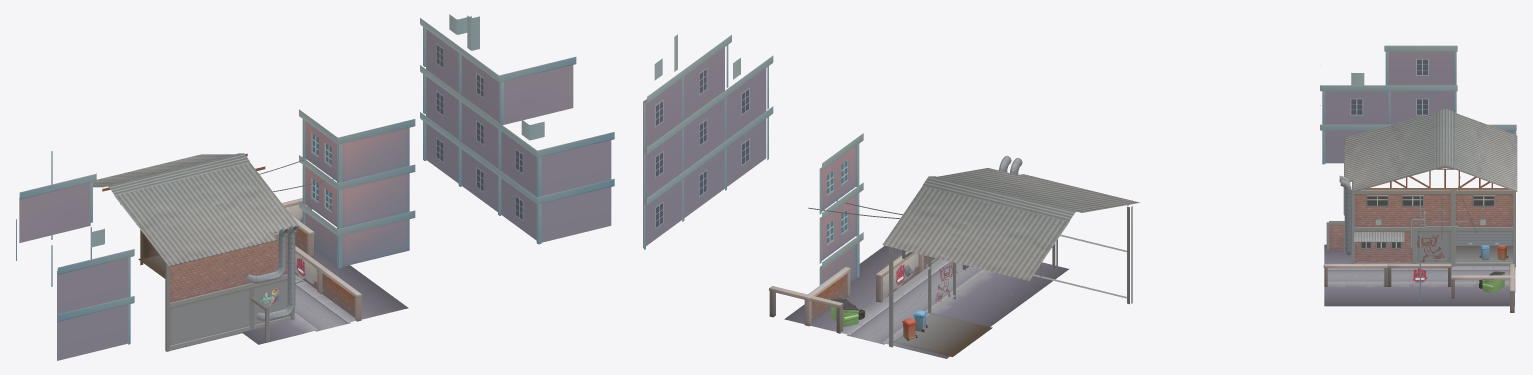
Rendered from IndustrialWarehouseTutorialUp2.prefab.glb.
3 views of the same model, side by side, from view 1: azimuth 30°, elevation 25°; view 2: azimuth 150°, elevation 25°; view 3: azimuth 270°, elevation 25° (orthographic). The views are drawn at different scales.
Parts seen in each view (by area): view 1: FarBackBuilding03, Warehouse03, BackgroundBuilding01, IndustrialWarehouseTutorialUp2, BrickWall, Road02, PlasteredWall02, BrickWall (3); view 2: Warehouse03, FarBackBuilding03, BackgroundBuilding01, Road02, IndustrialWarehouseTutorialUp2, Road02 (1), BrickWall (3), PlasteredWall02, PlasteredWall02 (1); view 3: Warehouse03, FarBackBuilding03, IndustrialWarehouseTutorialUp2, Road02, Road02 (1), PlasteredWall02, BrickWall, BrickWall (3), DumpsterGreen, PlasteredWall02 (1), Graffiti07, BackgroundBuilding01 (+1 smaller).
Boxes of the visible parts, x1=… form: FarBackBuilding03: x1=16, y1=14, x2=614, y2=360; Warehouse03: x1=93, y1=153, x2=303, y2=351; BackgroundBuilding01: x1=299, y1=109, x2=415, y2=268; IndustrialWarehouseTutorialUp2: x1=242, y1=280, x2=408, y2=344; BrickWall: x1=319, y1=266, x2=362, y2=321; Road02: x1=295, y1=255, x2=370, y2=299; PlasteredWall02: x1=295, y1=246, x2=323, y2=292; BrickWall (3): x1=291, y1=215, x2=314, y2=257; Warehouse03: x1=882, y1=155, x2=1139, y2=356; FarBackBuilding03: x1=643, y1=34, x2=773, y2=249; BackgroundBuilding01: x1=819, y1=133, x2=863, y2=285; Road02: x1=850, y1=259, x2=1027, y2=326; IndustrialWarehouseTutorialUp2: x1=866, y1=245, x2=1068, y2=298; Road02 (1): x1=784, y1=295, x2=949, y2=358; BrickWall (3): x1=804, y1=267, x2=850, y2=326; PlasteredWall02: x1=875, y1=251, x2=921, y2=302; PlasteredWall02 (1): x1=769, y1=286, x2=843, y2=333; Warehouse03: x1=1326, y1=108, x2=1517, y2=267; FarBackBuilding03: x1=1320, y1=45, x2=1516, y2=164; IndustrialWarehouseTutorialUp2: x1=1324, y1=244, x2=1387, y2=306; Road02: x1=1387, y1=268, x2=1451, y2=306; Road02 (1): x1=1451, y1=266, x2=1514, y2=306; PlasteredWall02: x1=1387, y1=264, x2=1451, y2=286; BrickWall: x1=1323, y1=264, x2=1387, y2=286; BrickWall (3): x1=1451, y1=275, x2=1515, y2=298; DumpsterGreen: x1=1482, y1=271, x2=1504, y2=293; PlasteredWall02 (1): x1=1509, y1=264, x2=1515, y2=312; Graffiti07: x1=1417, y1=235, x2=1444, y2=262; BackgroundBuilding01: x1=1419, y1=196, x2=1468, y2=301.
Bounding box in the file's own units: 76.34 × 27.96 × 28.13.
Materials: 12 (11 with a texture image).
